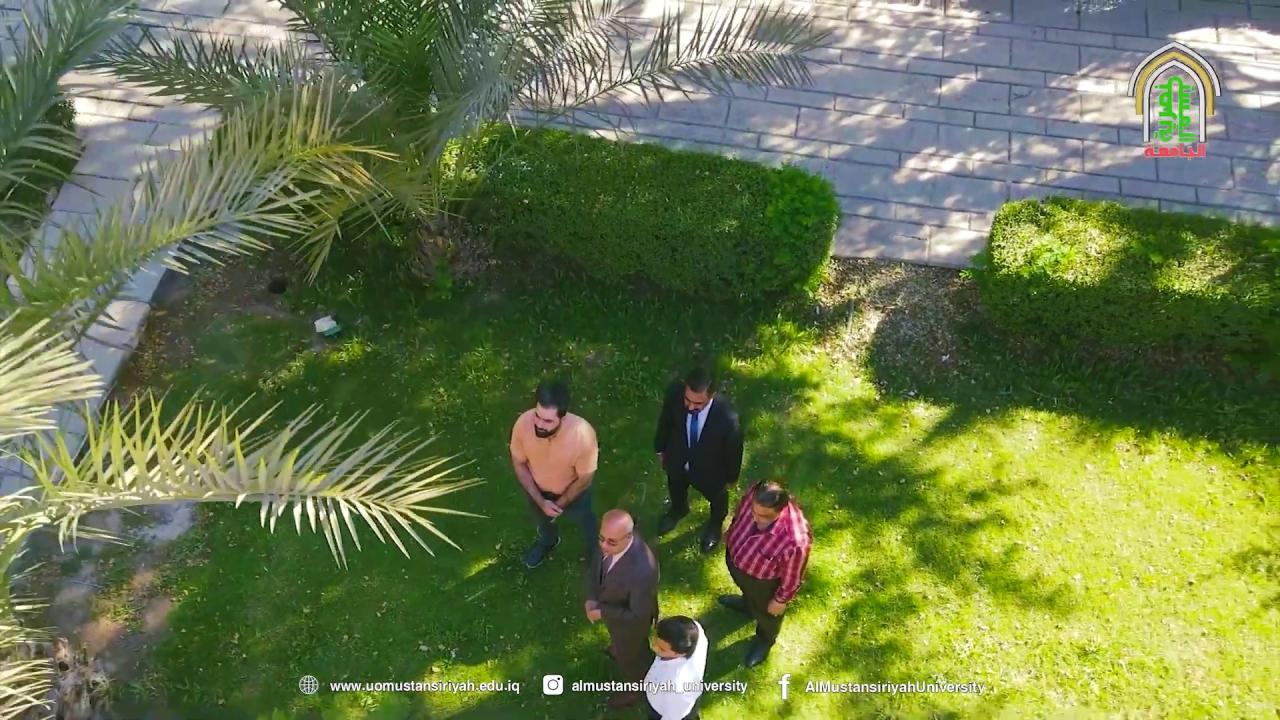person: (718, 478, 812, 669), (508, 378, 600, 570), (653, 365, 744, 554), (583, 508, 661, 709), (642, 615, 708, 719)
tree: (0, 0, 485, 710), (125, 0, 802, 281), (489, 127, 848, 298), (974, 202, 1280, 329)
